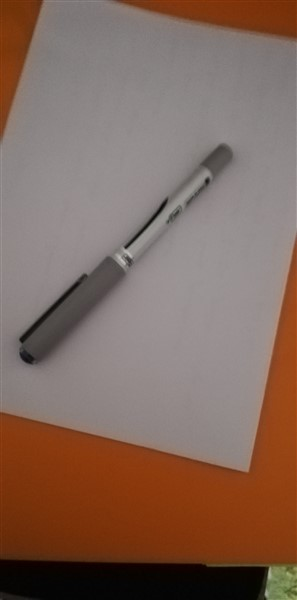pilot kalem: (11, 137, 242, 370)
